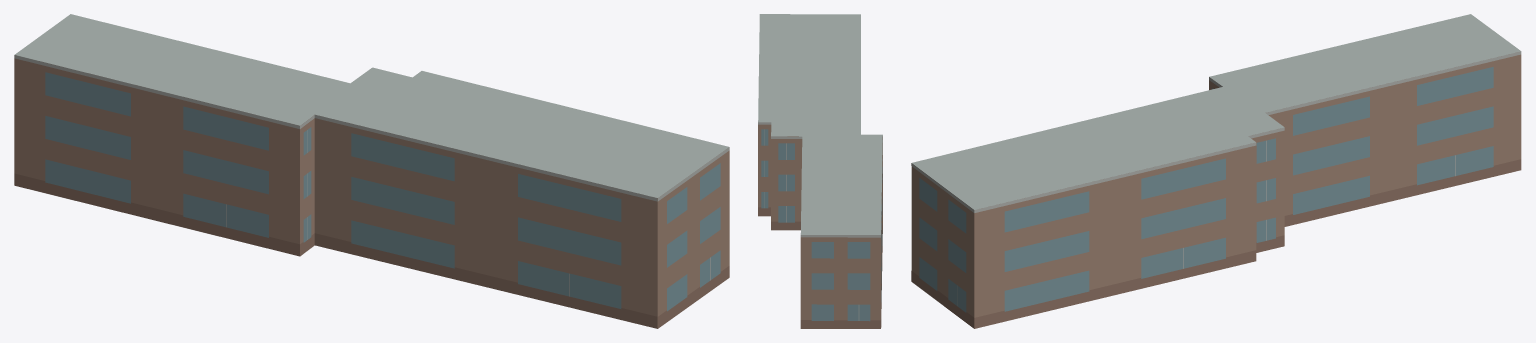
Rendered from survey-upis-32805213.glb.
3 views of the same model, side by side, from view 1: azimuth 30°, elevation 25°; view 2: azimuth 150°, elevation 25°; view 3: azimuth 270°, elevation 25° (orthographic). The views are drawn at different scales.
Visible parts, largest first — view 1: survey-upis-32805213.tmp; view 2: survey-upis-32805213.tmp; view 3: survey-upis-32805213.tmp.
Boxes of the visible parts, x1=… form: survey-upis-32805213.tmp: x1=14, y1=14, x2=729, y2=328; survey-upis-32805213.tmp: x1=758, y1=14, x2=882, y2=328; survey-upis-32805213.tmp: x1=911, y1=14, x2=1521, y2=328.
Bounding box in the file's own units: 32.38 × 9.15 × 42.56.
